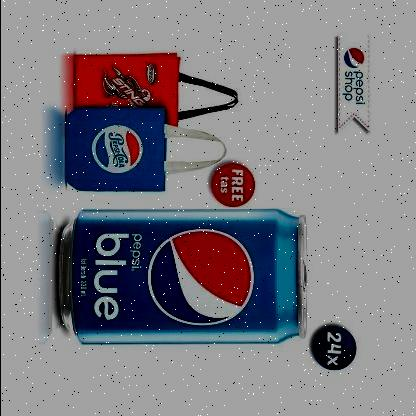Can: (57, 207, 310, 345)
